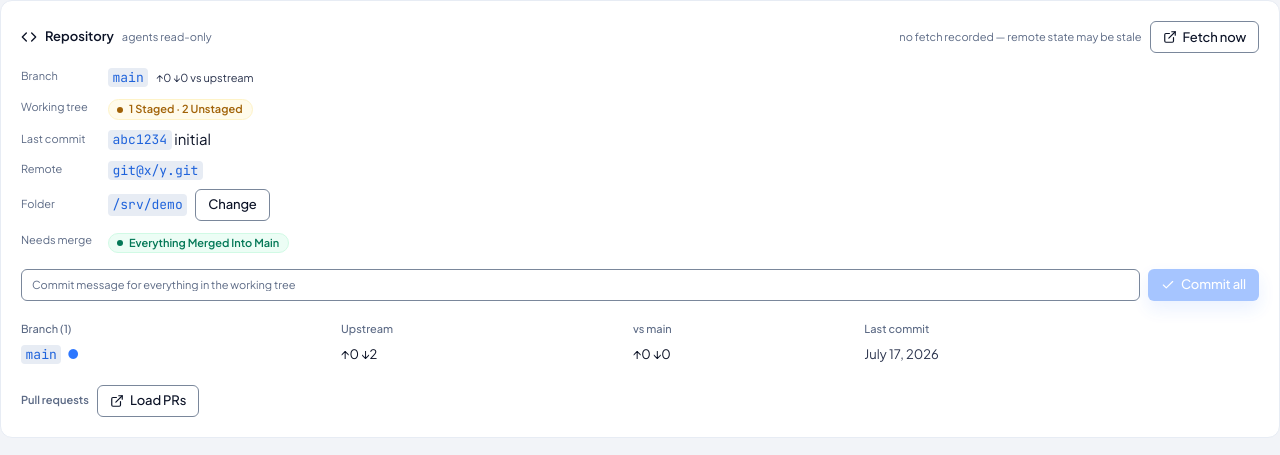
Test case: GitSnapshotPanel — Phase 12d gated commit / merge › commits the working tree and adopts the returned snapshot
Type "Save the plan" into the field with placeholder "Commit message for everything in the working tree".
click(580, 285); type("Save the plan")  # box [21,269,1140,301]
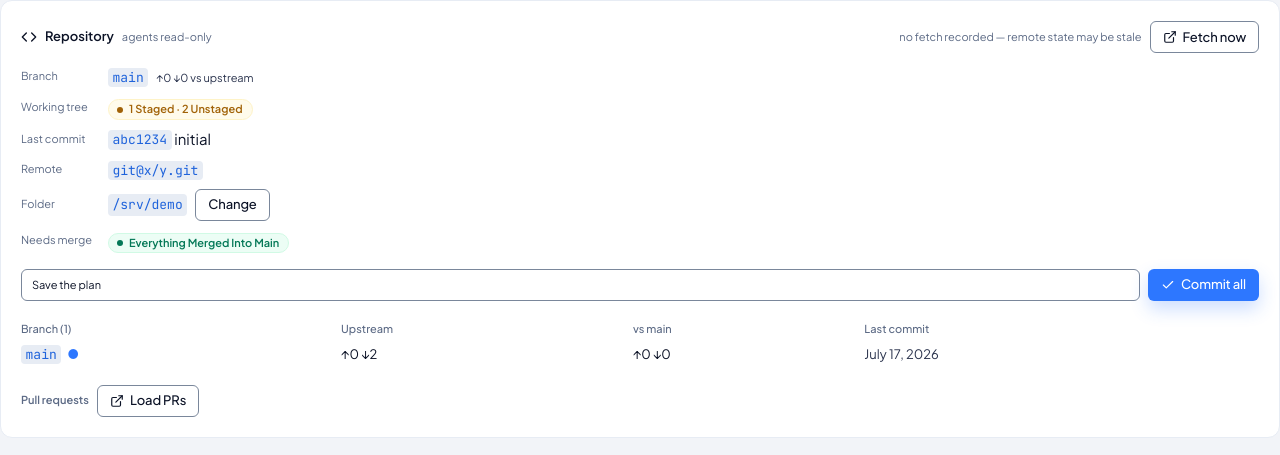
Click the button "Commit all".
click(1203, 285)  # box [1148,269,1259,301]
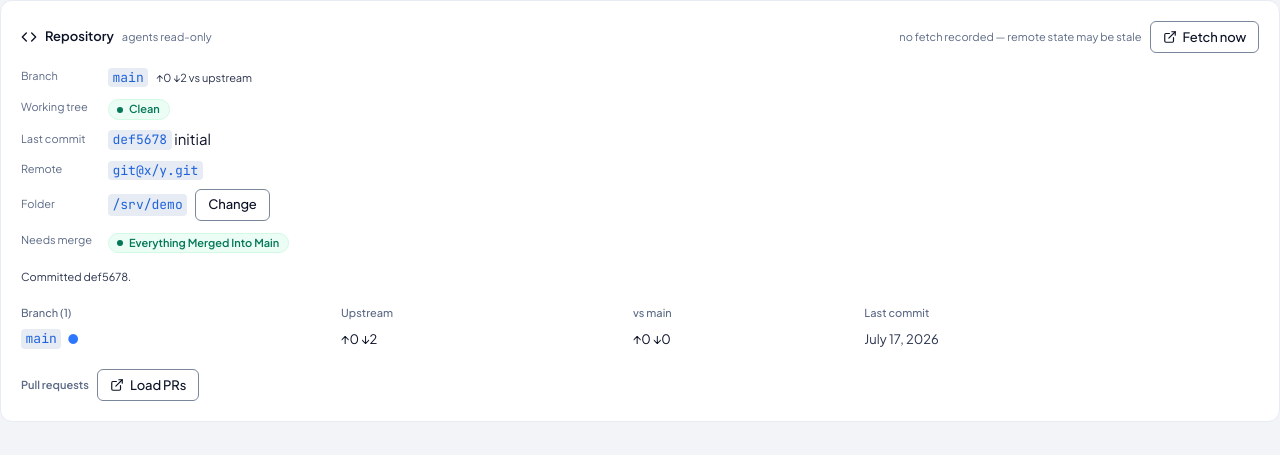
Result: the text "Committed def5678." is shown at [21,270,131,283]
Result: the button "Commit all" is gone
